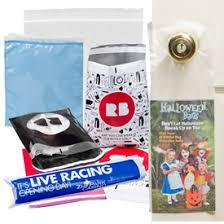Postal packaging: (3, 156, 150, 208), (88, 40, 149, 147), (9, 109, 90, 169)
Zip plastic bag: (2, 25, 86, 110), (18, 0, 146, 37)
